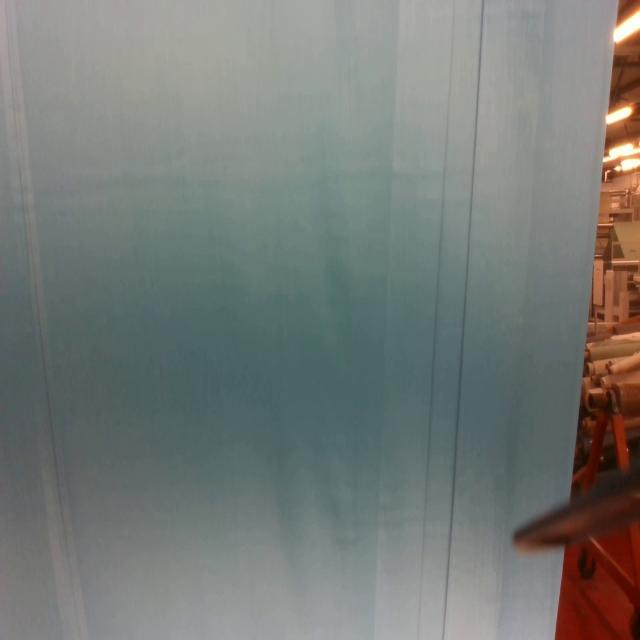crease: (3, 1, 83, 640), (416, 0, 485, 639)
